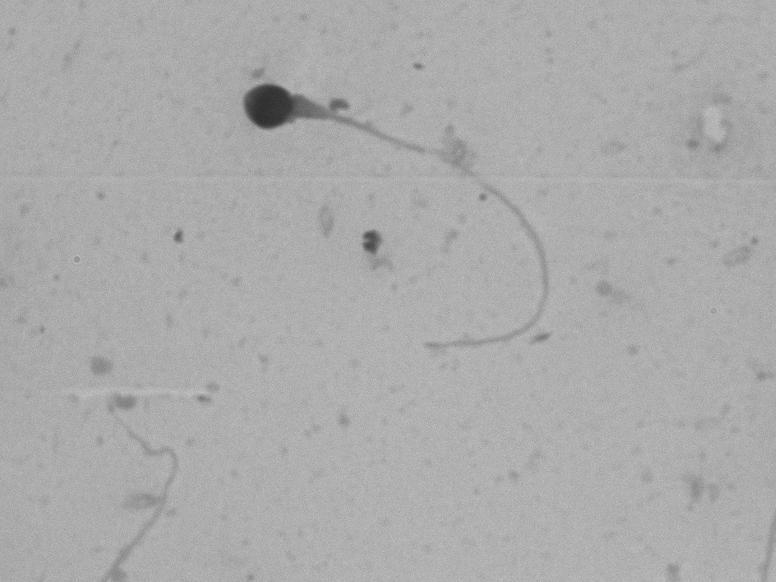Abnormal: (212, 35, 585, 370)
